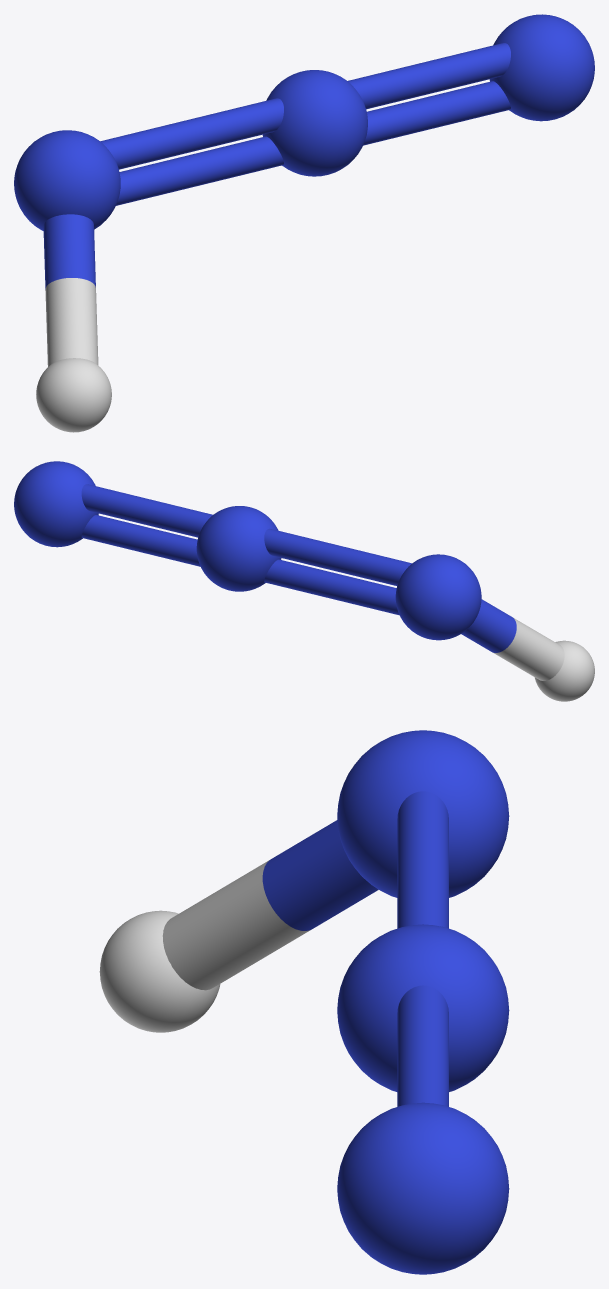
3 views of the same model, one above another, from view 1: azimuth 30°, elevation 25°; view 2: azimuth 150°, elevation 25°; view 3: azimuth 270°, elevation 25° (orthographic). The views are drawn at different scales.
Bounding box in the file's own units: 3.16 × 1.04 × 1.11.
